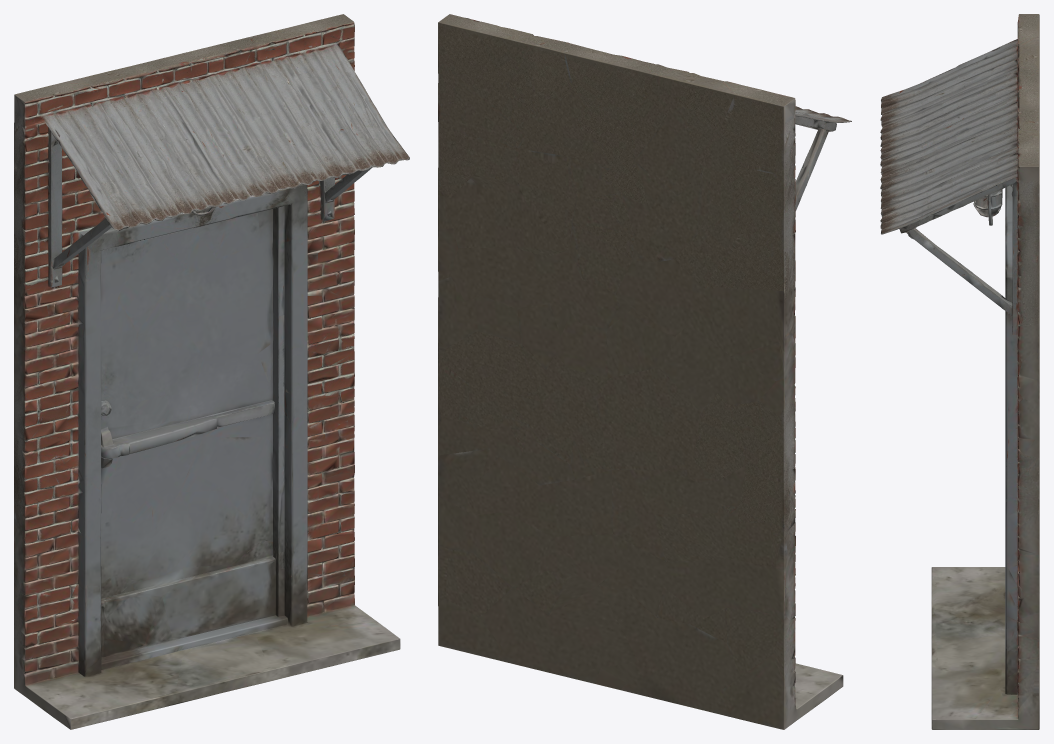
The model's file is porte.glb.
3 renders of one model, left to right at view 1: azimuth 30°, elevation 25°; view 2: azimuth 150°, elevation 25°; view 3: azimuth 270°, elevation 25°, orthographic. The views are drawn at different scales.
Size of the model in its own units: 1.11 by 1.9 by 0.487.
1 material, 1 textured.
